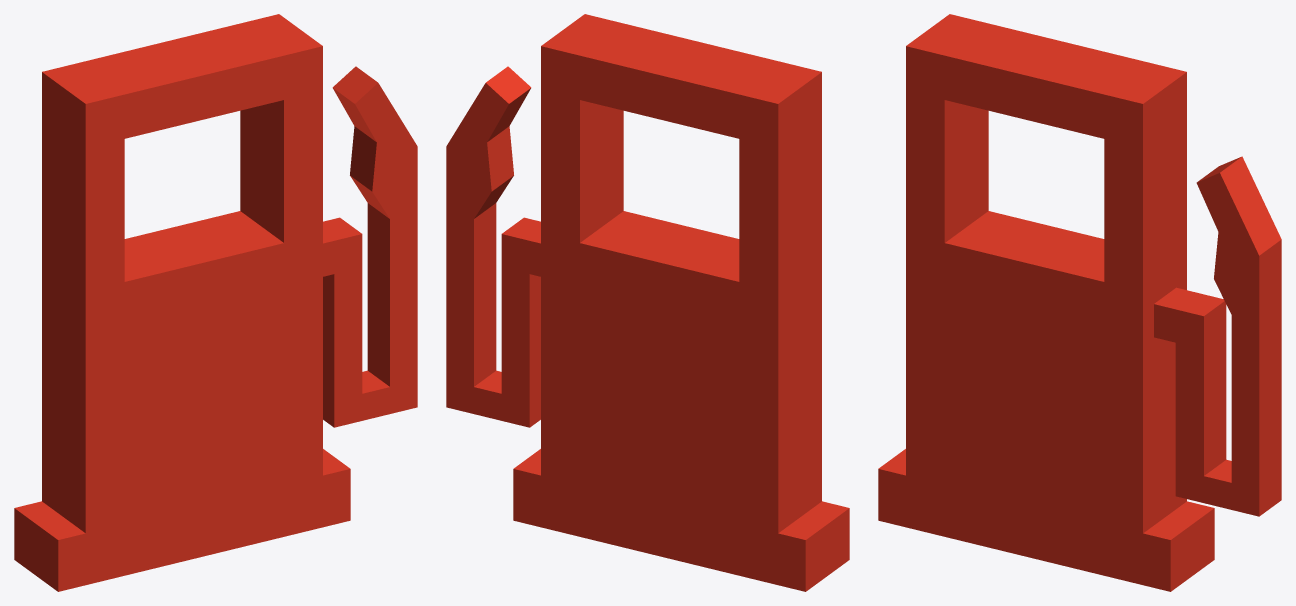
Rendered from Icon_Gas.fbx.
3 renders of one model, left to right at view 1: azimuth 30°, elevation 25°; view 2: azimuth 150°, elevation 25°; view 3: azimuth 330°, elevation 25°, orthographic.
Visible parts, largest first — view 1: Icon_Gas; view 2: Icon_Gas; view 3: Icon_Gas.
Part boxes in pixels (x1,y1,x2,y2): Icon_Gas: [14, 14, 417, 591]; Icon_Gas: [446, 14, 849, 591]; Icon_Gas: [878, 14, 1281, 591].
Size of the model in its own units: 58.73 by 72.94 by 12.06.
